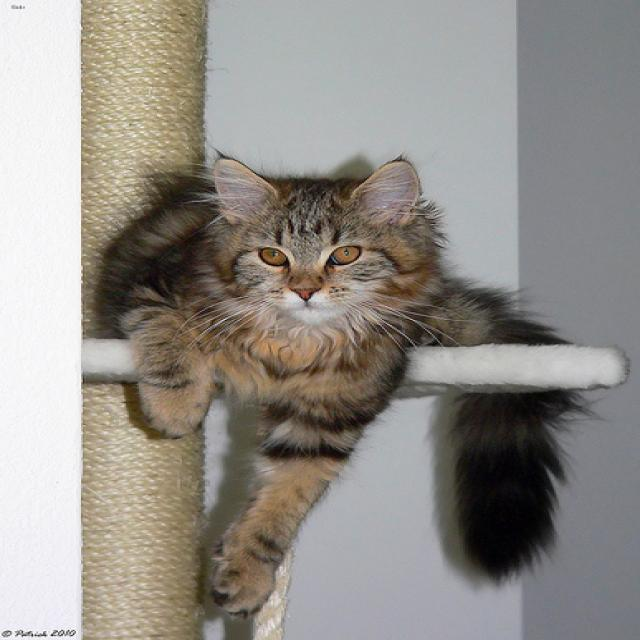Maine_Coon: (210, 155, 418, 321)
